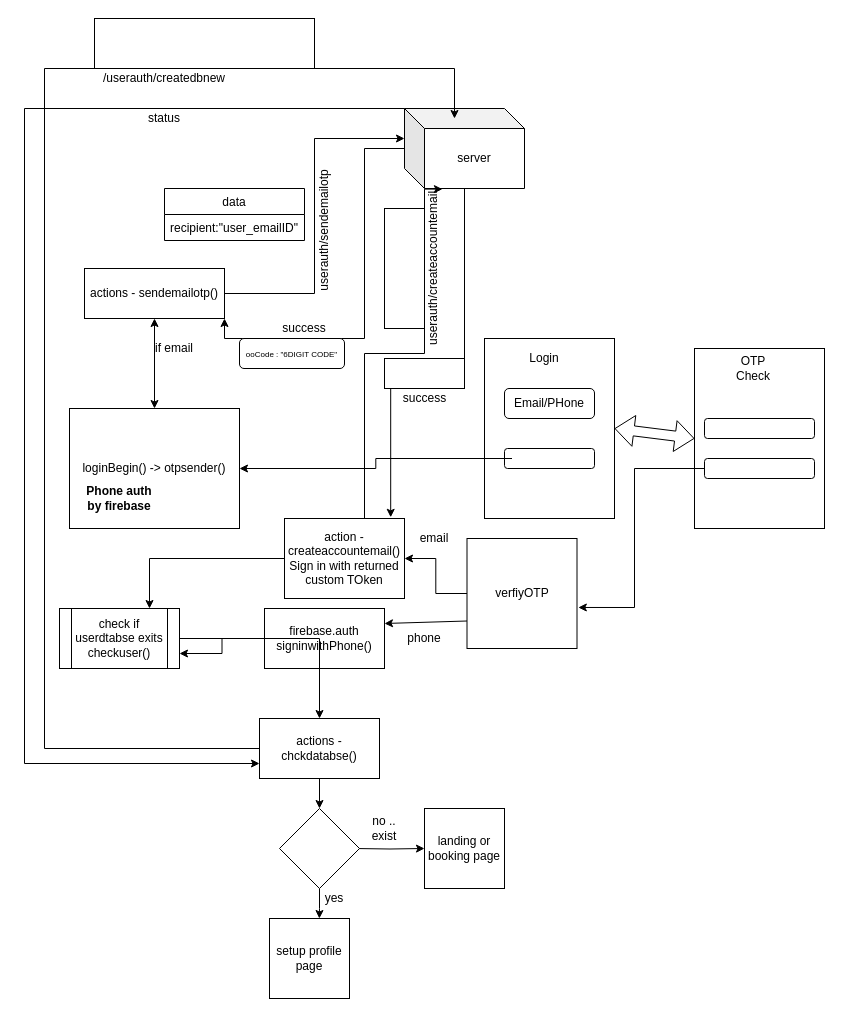
The diagram is 842 pixels wide and 1016 high, and some of its shapes have lost their labels. Each missing label, with the centre of its shape:
Check OTP: pixel 759 468
customToken: pixel 424 373
Send OTP: pixel 549 458
status=="not exits": pixel 319 848
type: this.state.logtype, data: this.state.loginput, uid: auth.currentUser.uid,: pixel 204 43
{user_email:"email"}: pixel 404 268
